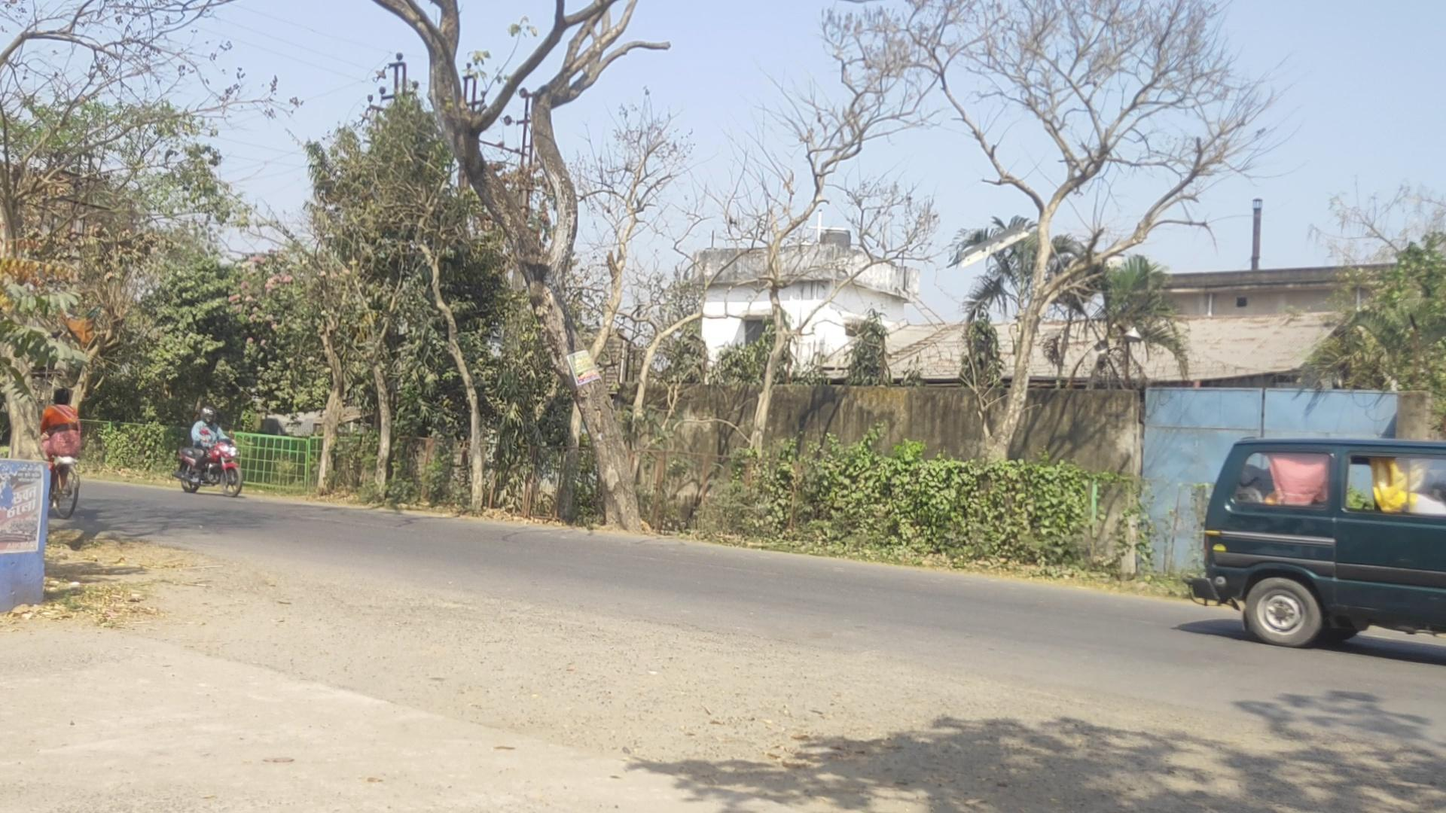bike: (26, 387, 81, 519), (172, 406, 243, 498)
van: (1182, 434, 1446, 648)
